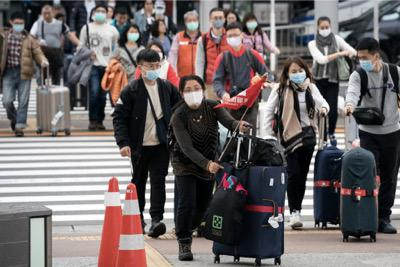mask_weared_incorrect: (116, 15, 126, 27)
with_mask: (182, 84, 203, 107), (143, 62, 161, 81), (357, 54, 375, 72), (289, 68, 306, 84), (226, 31, 242, 48), (210, 15, 225, 30), (185, 18, 199, 32), (150, 49, 164, 63), (318, 25, 331, 38), (245, 18, 258, 30), (94, 9, 106, 22), (12, 21, 24, 33), (127, 31, 140, 42), (155, 7, 165, 16), (90, 12, 95, 21)
without_mask: (41, 11, 53, 21), (143, 2, 153, 12), (158, 22, 167, 33), (226, 17, 236, 25), (105, 10, 113, 19)
